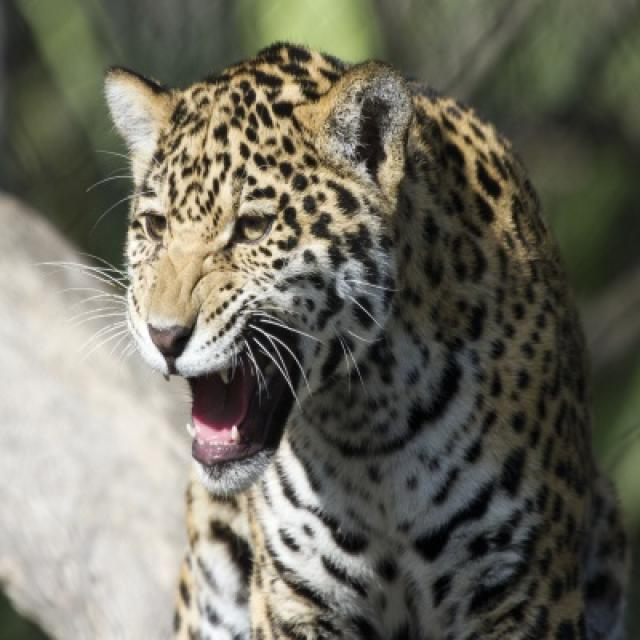Jaguar: (101, 43, 630, 638)
